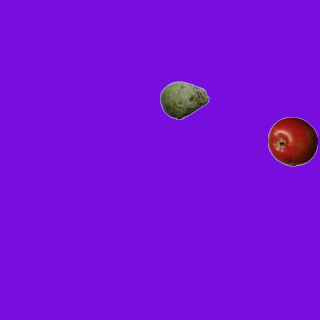Apple Braeburn: (267, 116, 317, 166)
Pear Stone: (159, 75, 209, 125)
